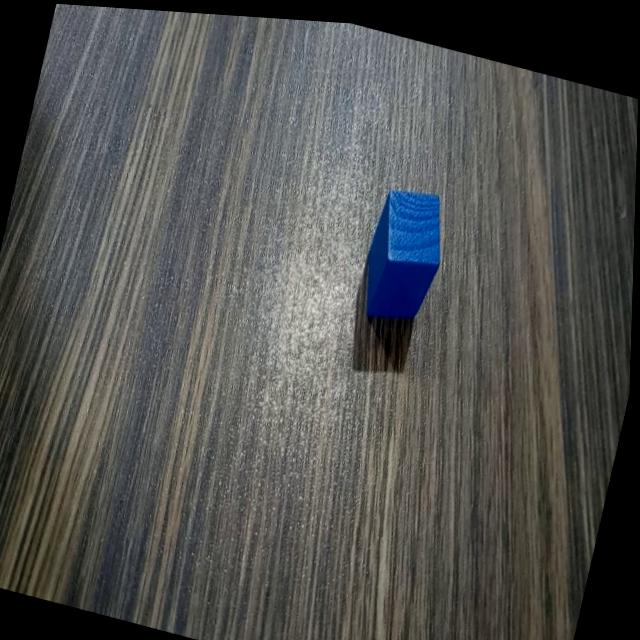cube: (353, 168, 459, 330)
